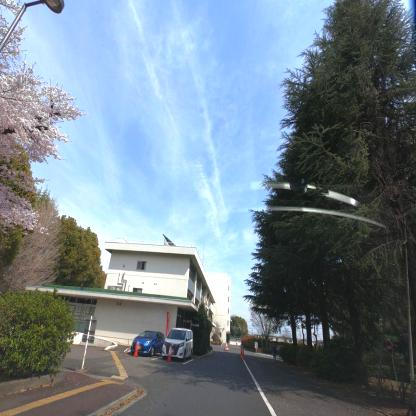Someiyoshino: (0, 0, 105, 269)
